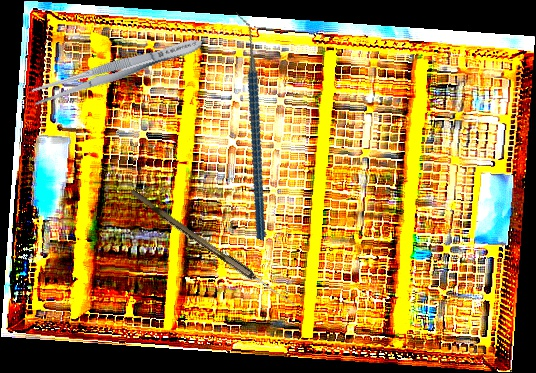Chopper: (178, 12, 322, 241)
Dressing Forceps: (29, 31, 206, 109)
Surgical Spoon: (127, 188, 299, 310)
